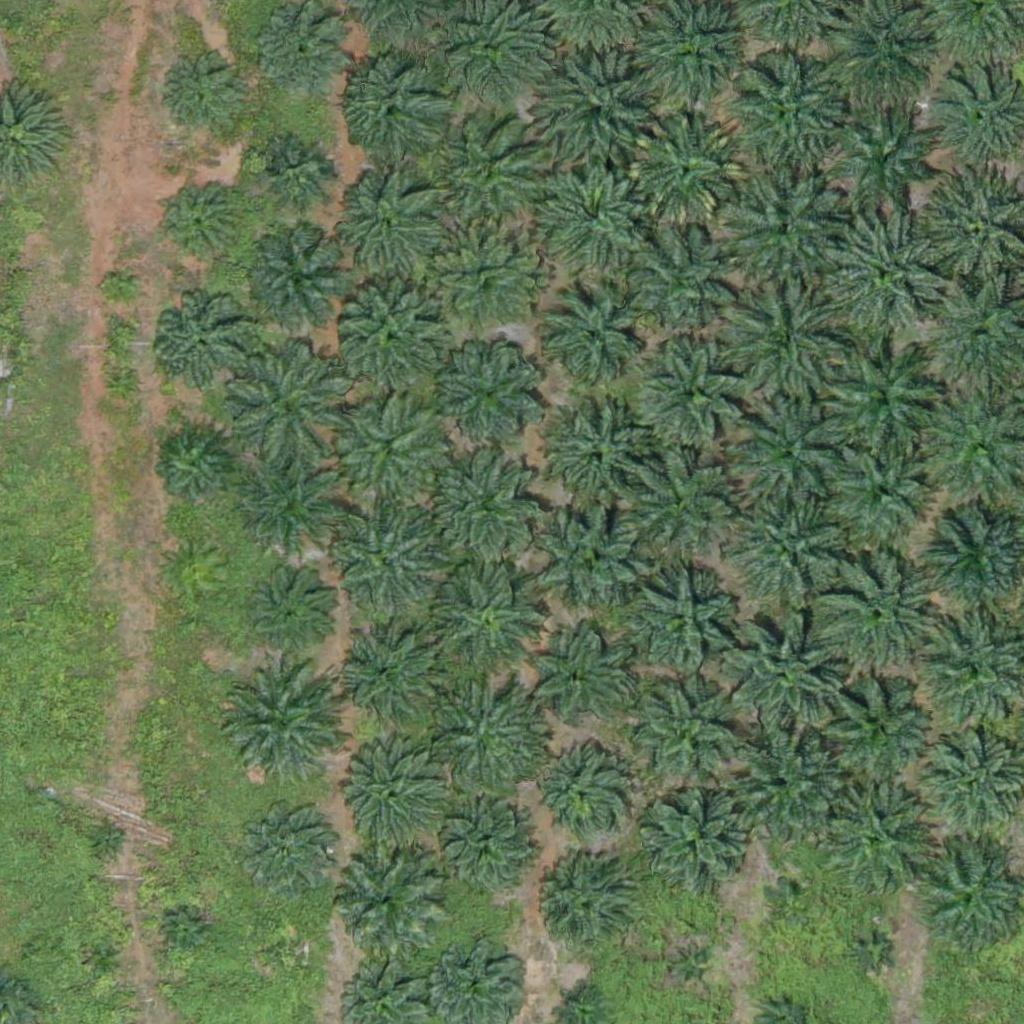Kelapa_Sawit: (816, 211, 941, 337), (724, 46, 849, 172), (722, 166, 847, 292), (712, 281, 837, 407), (222, 340, 347, 466), (215, 660, 340, 786), (625, 674, 750, 800), (728, 389, 853, 515), (726, 483, 851, 609), (721, 618, 846, 744), (721, 733, 846, 859), (818, 328, 943, 454), (822, 427, 947, 553), (818, 548, 943, 674), (808, 661, 933, 787), (427, 675, 552, 800), (910, 722, 1023, 836), (431, 116, 544, 229), (425, 222, 538, 335), (337, 283, 450, 396), (327, 167, 440, 280), (337, 51, 450, 164), (435, 333, 548, 446), (543, 403, 656, 516), (326, 843, 439, 956), (430, 448, 543, 561), (430, 561, 543, 674), (528, 499, 641, 612), (642, 789, 755, 902), (622, 450, 734, 564), (630, 112, 742, 225), (629, 228, 741, 341), (536, 281, 648, 394), (536, 157, 648, 270), (543, 55, 655, 168), (637, 337, 749, 450), (335, 399, 447, 512), (236, 450, 348, 563), (331, 506, 443, 619), (333, 739, 445, 852), (624, 563, 736, 676), (821, 789, 933, 902), (255, 1, 355, 102), (247, 232, 347, 333), (236, 799, 336, 900), (339, 627, 439, 728), (437, 799, 537, 900), (527, 627, 627, 728), (529, 744, 629, 845), (527, 857, 627, 958), (834, 105, 934, 205), (151, 295, 251, 395), (160, 53, 248, 141), (158, 181, 246, 269), (248, 564, 335, 652), (157, 429, 232, 505), (259, 136, 334, 211), (846, 927, 896, 977), (662, 942, 712, 992), (765, 873, 815, 923), (86, 940, 124, 978), (87, 821, 125, 859), (101, 272, 138, 310), (272, 934, 310, 971), (168, 914, 205, 952)
